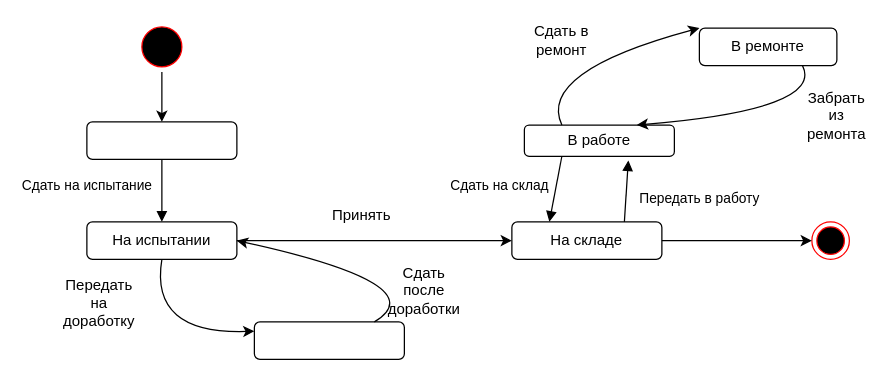
This 895x381 diagram has some shape labels left out. The shapes that lost their labels are listed below. From the top down, each one's centre as x and y in pixels, then its label:
At (161,140): "У изготовителя".
At (328,340): "На доработке".
